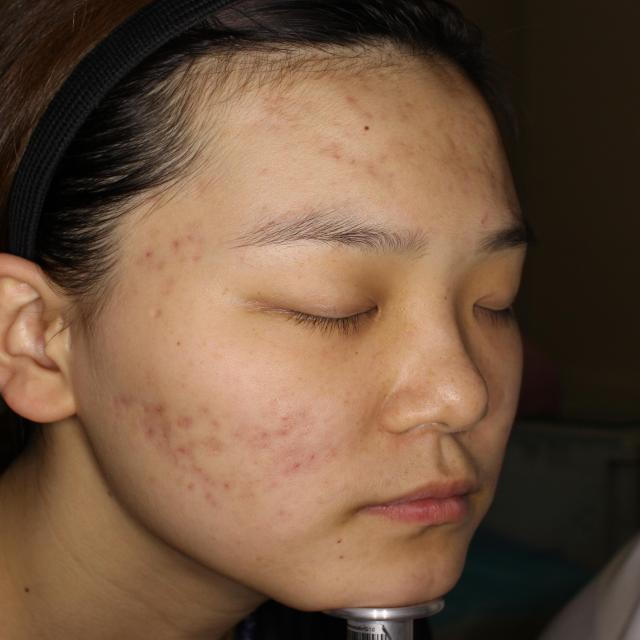pustule: (353, 154, 398, 184), (317, 136, 352, 171), (324, 88, 369, 114), (130, 412, 158, 453), (270, 416, 298, 446), (162, 224, 198, 246), (186, 468, 210, 500), (169, 446, 202, 468), (136, 248, 163, 272), (182, 244, 208, 266), (142, 398, 175, 414), (207, 431, 232, 452), (174, 408, 197, 429), (159, 418, 177, 442), (286, 454, 304, 476)
